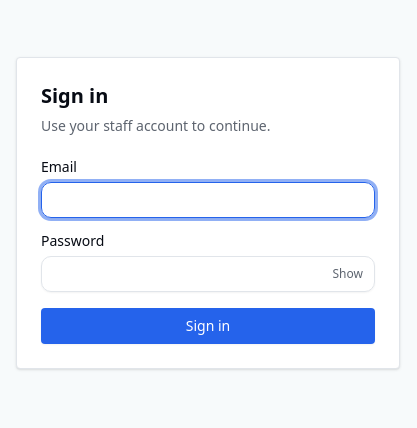
Test case: LoginPage › shows the translated server error code
In the field labelled "Email": (208, 200) [41, 182, 375, 218], type "sara@shop.test"
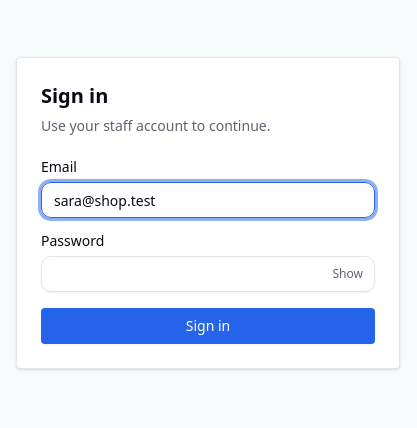
In the password field labelled "Password": (208, 274) [41, 256, 375, 292], type "whatever-pass"
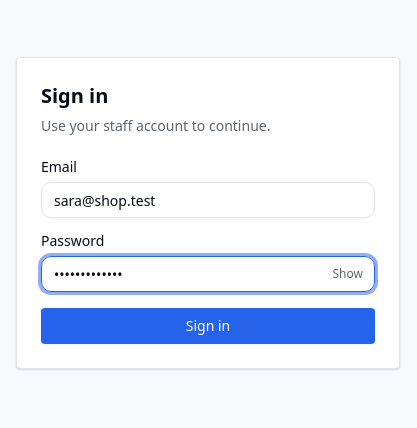
Click the button "Sign in": (208, 326) [41, 308, 375, 344]
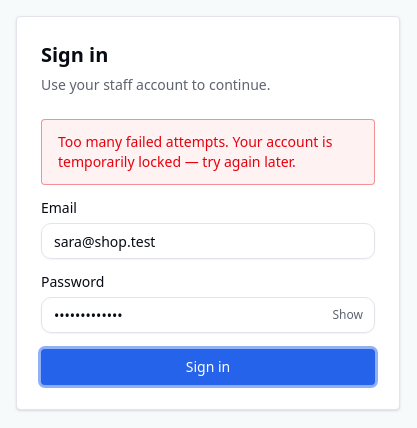
Expected: the message shows "temporarily locked", [58, 132, 332, 171]
